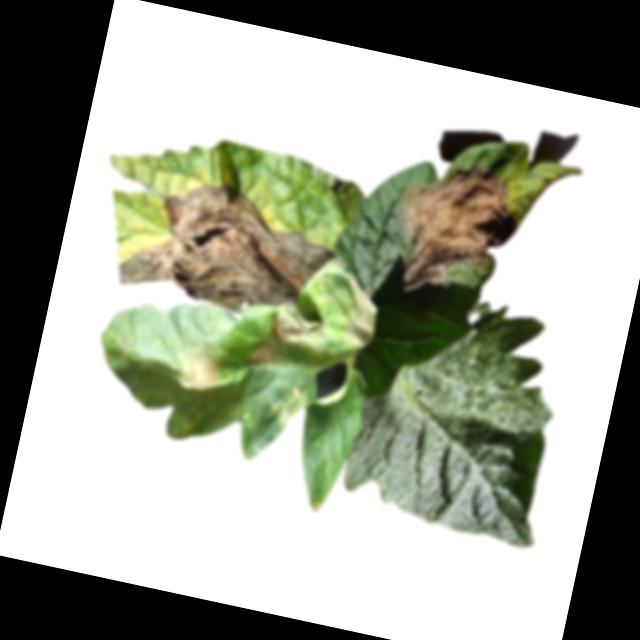Late_blight: (112, 164, 345, 330), (378, 143, 531, 312), (333, 272, 385, 356), (264, 304, 332, 358), (170, 338, 226, 398), (270, 382, 314, 428), (245, 335, 283, 374)
